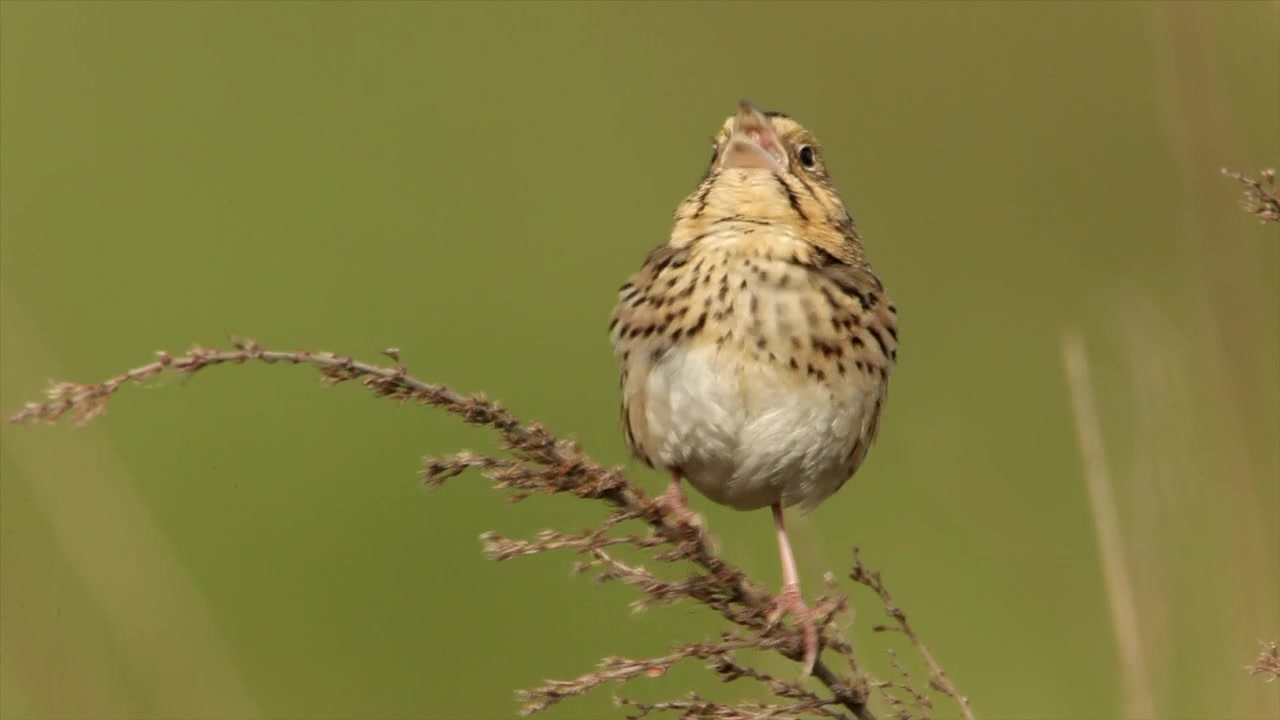bird: (606, 98, 904, 685)
